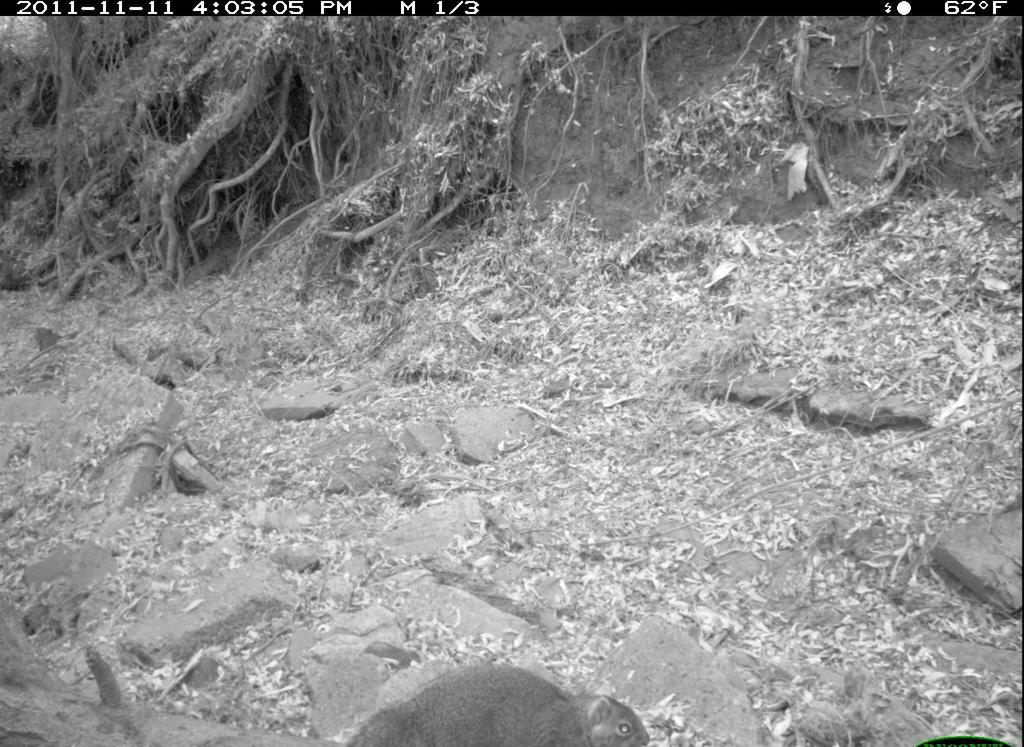squirrel: (340, 662, 660, 747)
